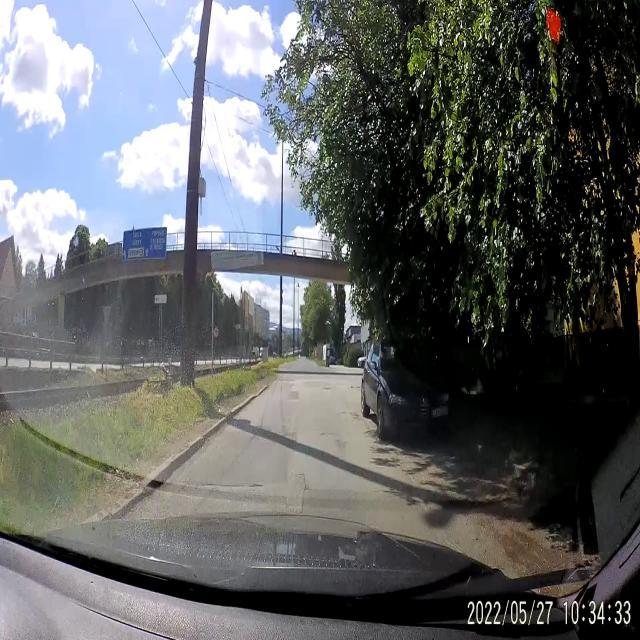Pothole: (292, 473, 314, 501), (241, 482, 268, 496)
